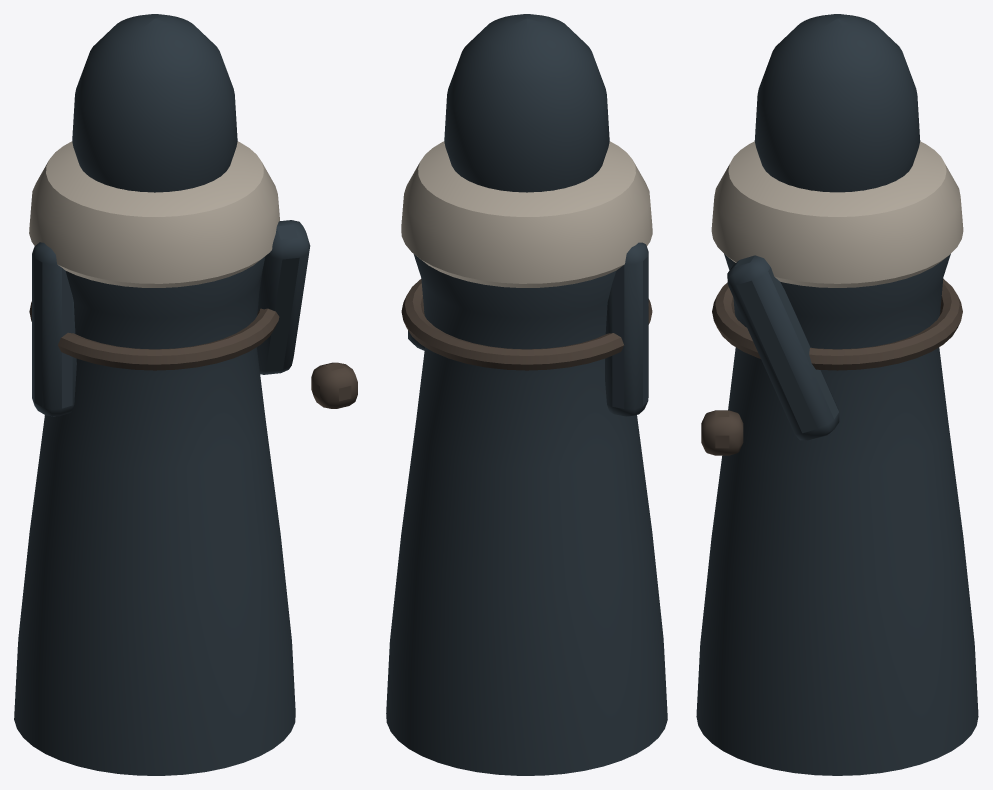
The model's file is lamplighter.glb.
3 views of the same model, side by side, from view 1: azimuth 30°, elevation 25°; view 2: azimuth 150°, elevation 25°; view 3: azimuth 270°, elevation 25° (orthographic).
Parts seen in each view (by area): view 1: Lamplighter_Cloak, Lamplighter_Mantle, Lamplighter_Hood, Lamplighter_ArmLeft, Lamplighter_Arm, Lamplighter_Belt, Lamplighter_Hand; view 2: Lamplighter_Cloak, Lamplighter_Mantle, Lamplighter_Hood, Lamplighter_ArmLeft, Lamplighter_Belt; view 3: Lamplighter_Cloak, Lamplighter_Mantle, Lamplighter_Hood, Lamplighter_Arm, Lamplighter_Belt, Lamplighter_Hand.
Part boxes in pixels (x1=…): Lamplighter_Cloak: x1=14, y1=256, x2=295, y2=775; Lamplighter_Mantle: x1=29, y1=141, x2=279, y2=287; Lamplighter_Hood: x1=72, y1=14, x2=237, y2=192; Lamplighter_ArmLeft: x1=32, y1=242, x2=76, y2=416; Lamplighter_Arm: x1=257, y1=220, x2=310, y2=374; Lamplighter_Belt: x1=29, y1=301, x2=279, y2=370; Lamplighter_Hand: x1=311, y1=362, x2=357, y2=408; Lamplighter_Cloak: x1=386, y1=254, x2=667, y2=775; Lamplighter_Mantle: x1=401, y1=141, x2=652, y2=287; Lamplighter_Hood: x1=444, y1=14, x2=609, y2=192; Lamplighter_ArmLeft: x1=605, y1=242, x2=648, y2=416; Lamplighter_Belt: x1=401, y1=279, x2=652, y2=370; Lamplighter_Cloak: x1=696, y1=254, x2=978, y2=775; Lamplighter_Mantle: x1=711, y1=141, x2=963, y2=287; Lamplighter_Hood: x1=754, y1=14, x2=920, y2=192; Lamplighter_Arm: x1=727, y1=255, x2=839, y2=440; Lamplighter_Belt: x1=712, y1=279, x2=962, y2=370; Lamplighter_Hand: x1=701, y1=410, x2=743, y2=455.
Bounding box in the file's own units: 0.645 × 1.65 × 0.6.
